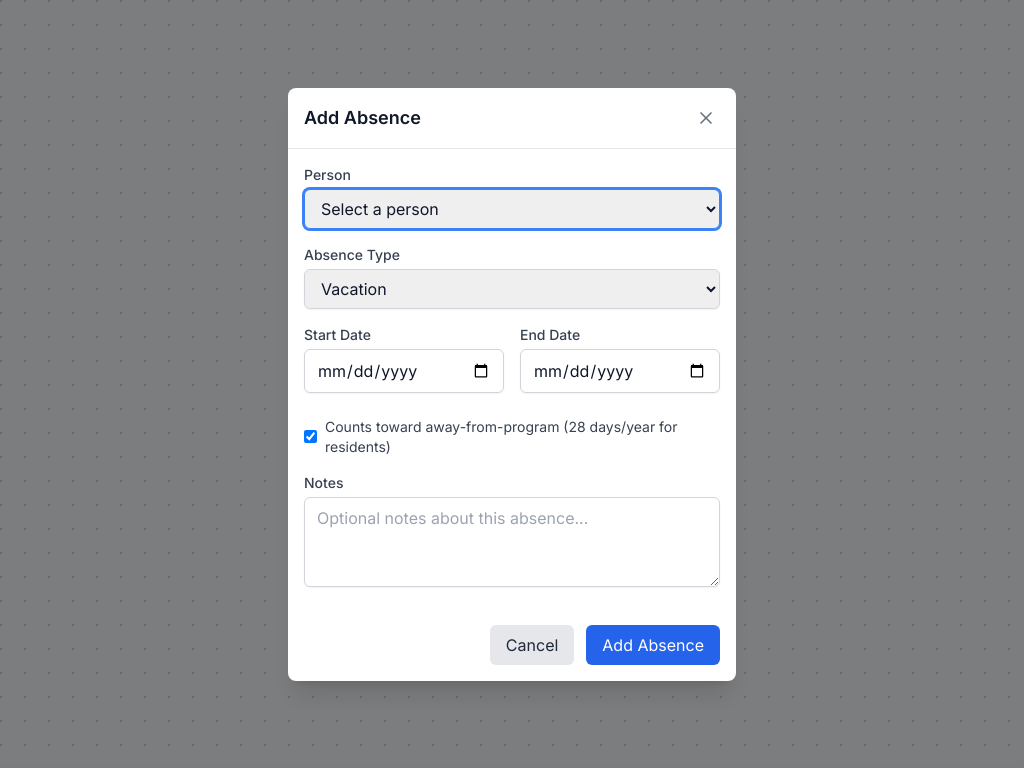
Test case: AddAbsenceModal › Date Range Validation › should show error when start date is not provided
Note: Select person but not dates
Select "Dr. John Smith (PGY-2)" in the dropdown labelled "Person" at (512, 208), box [304,188,720,228]
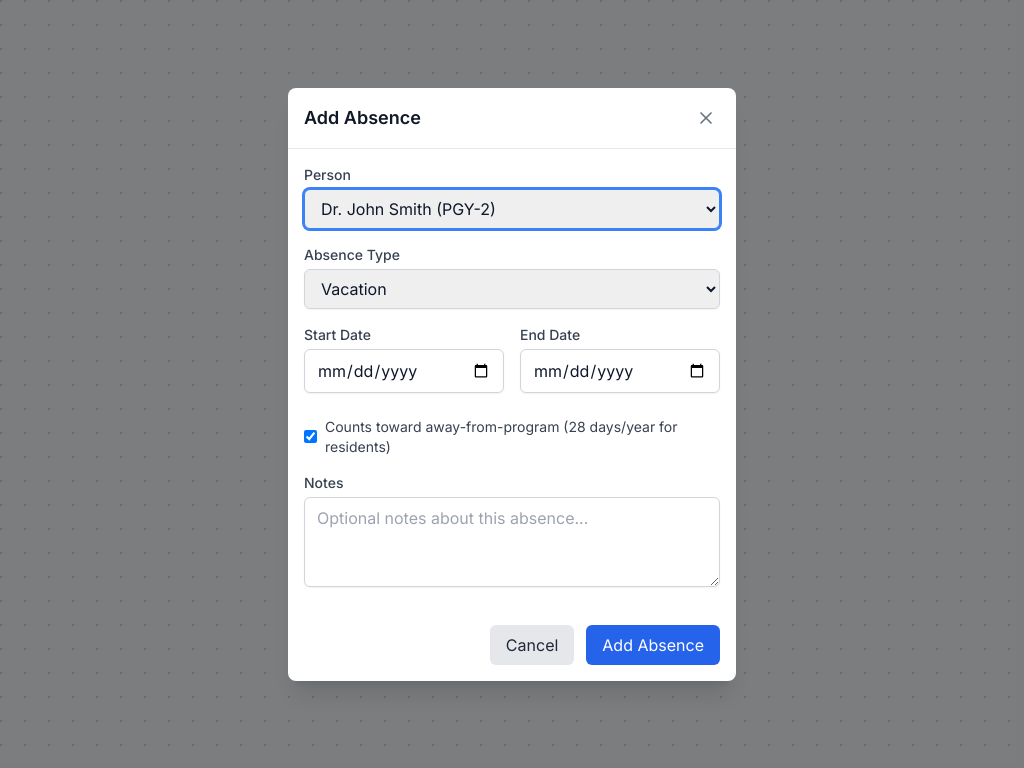
Click the button "Add Absence".
click(653, 644)  # box [586,624,720,664]
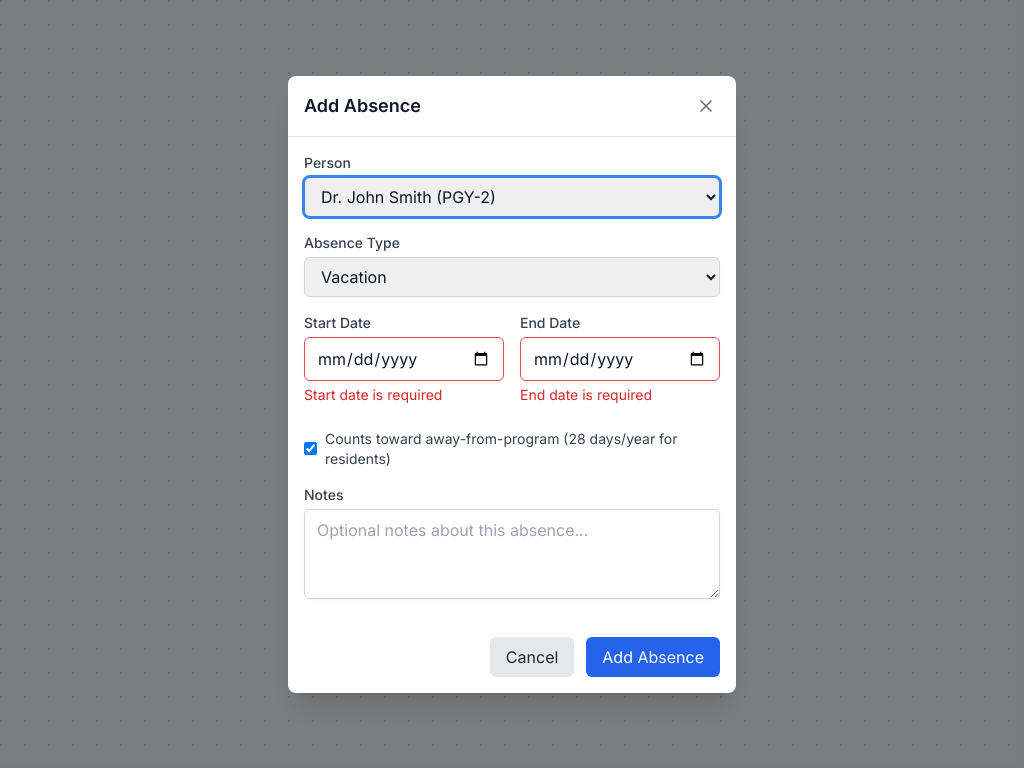
Result: the text "Start date is required" is shown at [304,386,442,402]
